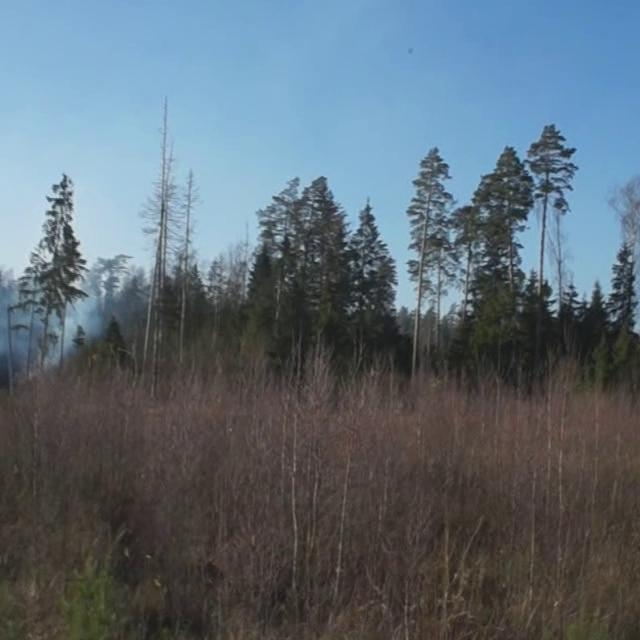Smoke: (1, 247, 117, 389)
